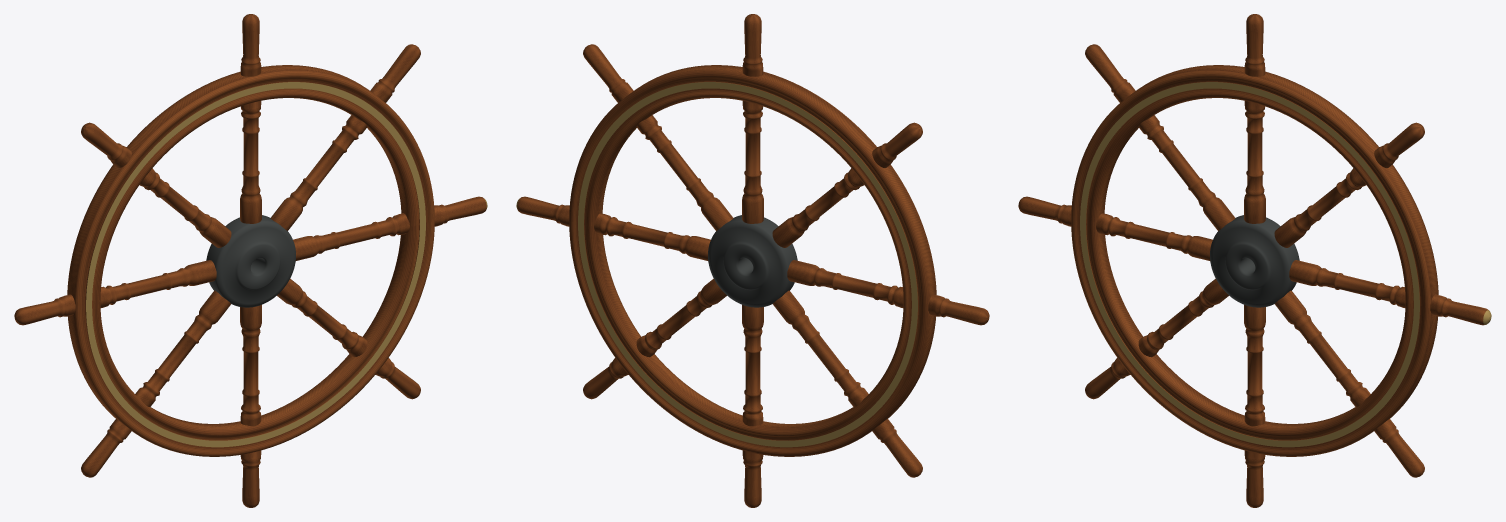
Rendered from NEW451_ship_helm_LOD0.glb.
3 renders of one model, left to right at view 1: azimuth 30°, elevation 25°; view 2: azimuth 150°, elevation 25°; view 3: azimuth 330°, elevation 25°, orthographic.
Visible parts, largest first — view 1: Rim_Continuous_Moulded, Hub_Cast_Through_Bore, Spindle_Handle_05, Spindle_Handle_01, Spindle_Handle_02, Spindle_Handle_04, Spindle_Handle_06, Spindle_Handle_00, Spindle_Handle_03, Spindle_Handle_07; view 2: Rim_Continuous_Moulded, Hub_Cast_Through_Bore, Spindle_Handle_05, Spindle_Handle_01, Spindle_Handle_02, Spindle_Handle_04, Spindle_Handle_06, Spindle_Handle_00, Spindle_Handle_03, Spindle_Handle_07; view 3: Rim_Continuous_Moulded, Hub_Cast_Through_Bore, Spindle_Handle_07, Spindle_Handle_03, Spindle_Handle_02, Spindle_Handle_00, Spindle_Handle_06, Spindle_Handle_04, Spindle_Handle_01, Spindle_Handle_05.
Part boxes in pixels (box(x1,y1,x2,y2)): Rim_Continuous_Moulded: box(67, 65, 434, 456); Hub_Cast_Through_Bore: box(206, 215, 295, 307); Spindle_Handle_05: box(81, 290, 230, 477); Spindle_Handle_01: box(270, 44, 420, 230); Spindle_Handle_02: box(240, 14, 261, 223); Spindle_Handle_04: box(14, 260, 216, 325); Spindle_Handle_06: box(240, 305, 261, 507); Spindle_Handle_00: box(293, 196, 487, 260); Spindle_Handle_03: box(81, 122, 231, 247); Spindle_Handle_07: box(277, 278, 420, 399); Rim_Continuous_Moulded: box(569, 65, 936, 456); Hub_Cast_Through_Bore: box(708, 215, 797, 307); Spindle_Handle_05: box(773, 290, 922, 477); Spindle_Handle_01: box(583, 44, 733, 230); Spindle_Handle_02: box(742, 14, 763, 223); Spindle_Handle_04: box(787, 260, 989, 325); Spindle_Handle_06: box(742, 305, 763, 507); Spindle_Handle_00: box(516, 196, 710, 260); Spindle_Handle_03: box(772, 122, 922, 247); Spindle_Handle_07: box(583, 278, 726, 399); Rim_Continuous_Moulded: box(1071, 65, 1438, 456); Hub_Cast_Through_Bore: box(1210, 215, 1299, 307); Spindle_Handle_07: box(1275, 290, 1424, 477); Spindle_Handle_03: box(1085, 44, 1235, 230); Spindle_Handle_02: box(1244, 14, 1265, 223); Spindle_Handle_00: box(1289, 260, 1491, 325); Spindle_Handle_06: box(1244, 305, 1265, 507); Spindle_Handle_04: box(1018, 196, 1212, 260); Spindle_Handle_01: box(1274, 122, 1424, 247); Spindle_Handle_05: box(1085, 278, 1228, 399).
Size of the model in its own units: 1.25 by 1.25 by 0.075.
3 materials, 1 textured.
